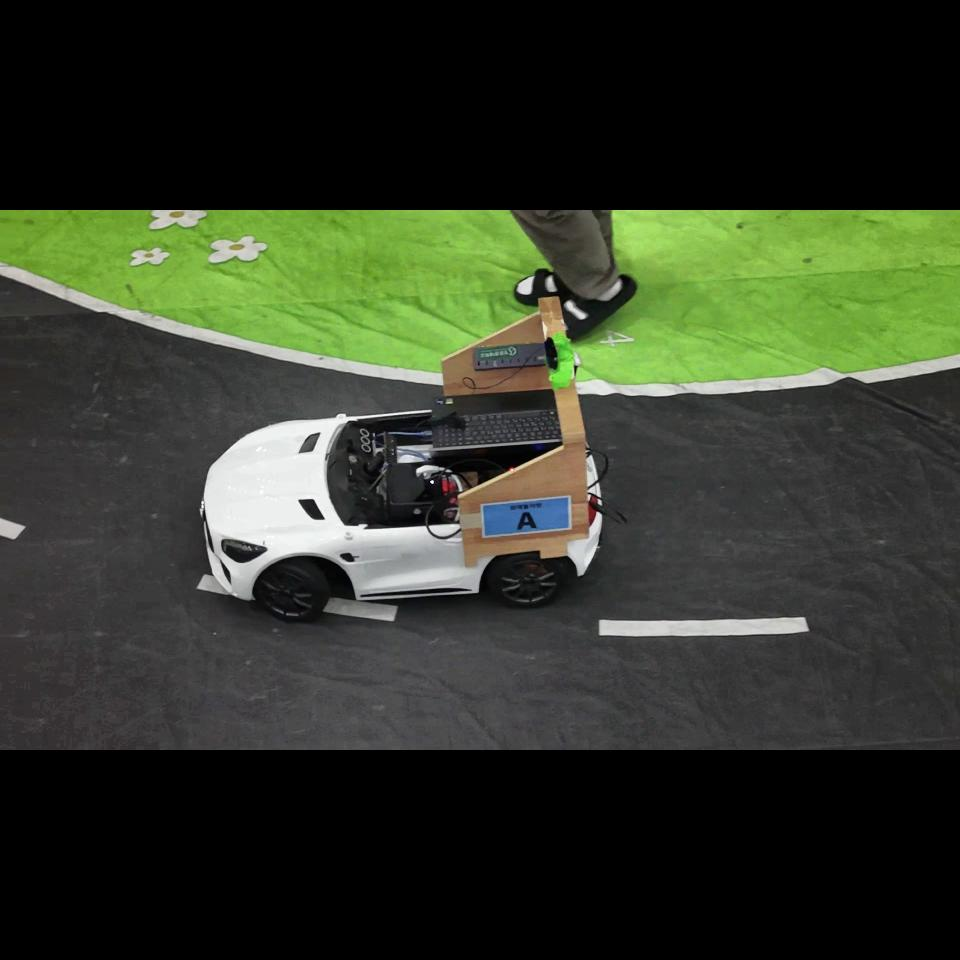broken_line: (598, 617, 810, 637), (323, 597, 398, 622), (196, 574, 231, 595), (0, 518, 26, 540), (251, 593, 256, 600)
